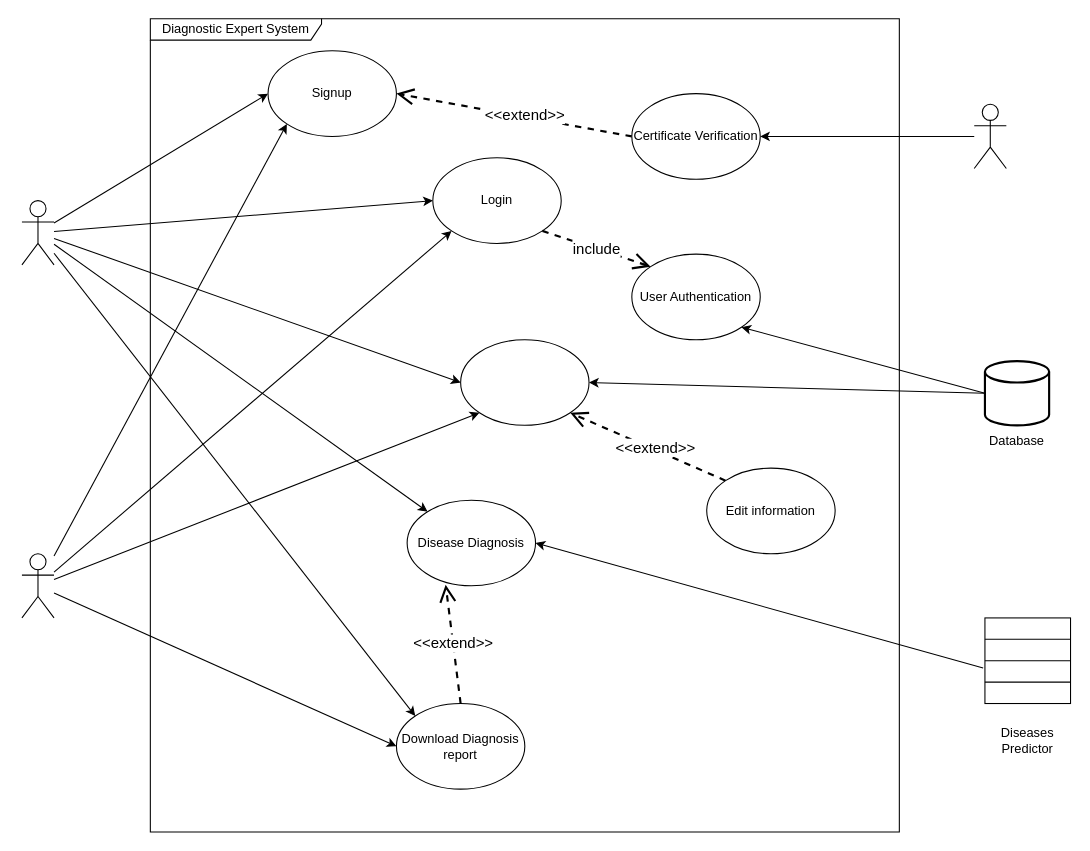
The diagram is 1090 pixels wide and 851 high, and some of its shapes have lost their labels. The shapes that lost their labels are listed below. From the top down, each one's box as (x1, y1, x2, y2) in pixels, then its label:
(973, 103, 1006, 169): Admin
(21, 200, 54, 265): Doctor
(460, 339, 589, 425): View Profile
(21, 553, 54, 618): Patient
